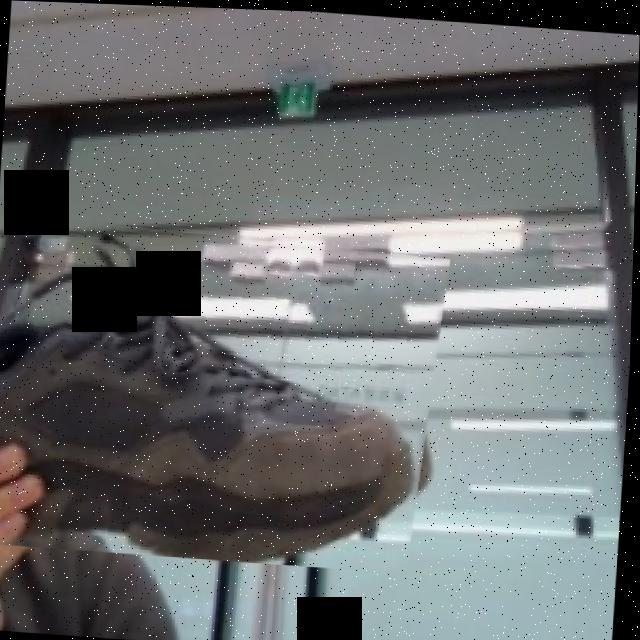shoe: (0, 212, 452, 571)
